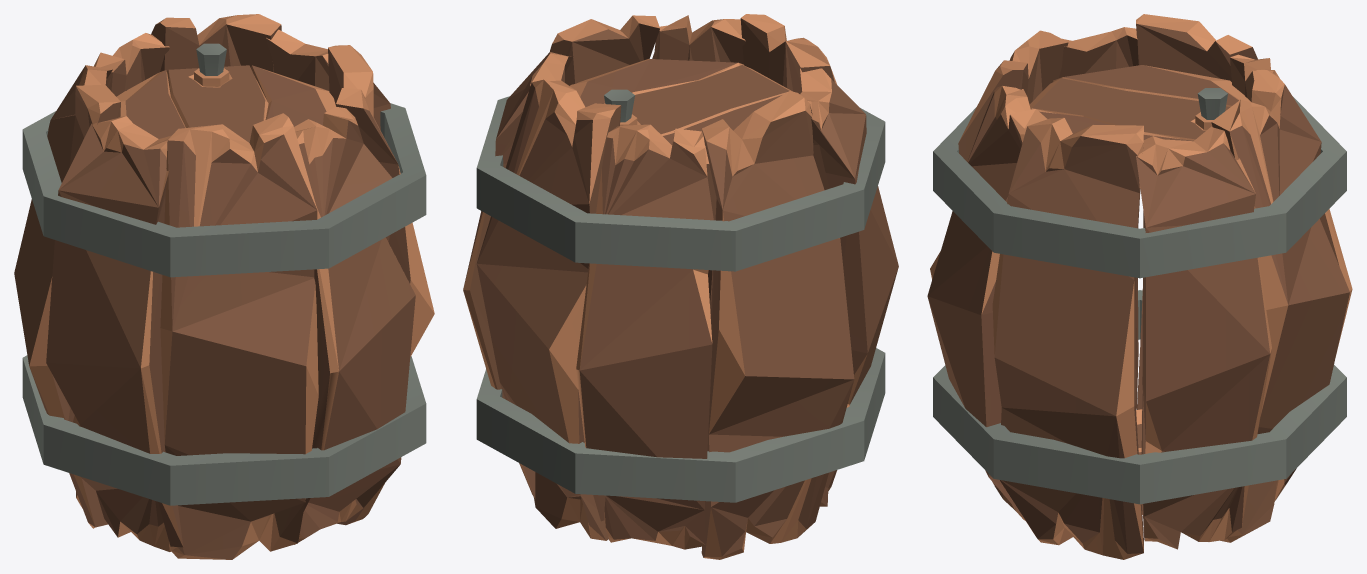
The model's file is Varil.001.fbx.
3 views of the same model, side by side, from view 1: azimuth 30°, elevation 25°; view 2: azimuth 150°, elevation 25°; view 3: azimuth 270°, elevation 25° (orthographic). The views are drawn at different scales.
Parts seen in each view (by area): view 1: Varil.001; view 2: Varil.001; view 3: Varil.001.
Boxes of the visible parts, <box> form: Varil.001: <box>14,14,434,559</box>; Varil.001: <box>463,14,898,559</box>; Varil.001: <box>927,14,1352,559</box>.
Size of the model in its own units: 43.85 by 49.89 by 44.48.
